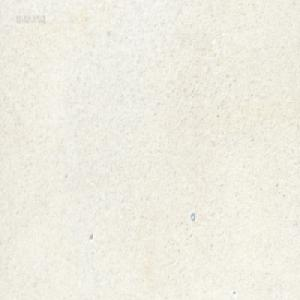Washer: (190, 211, 195, 221)
